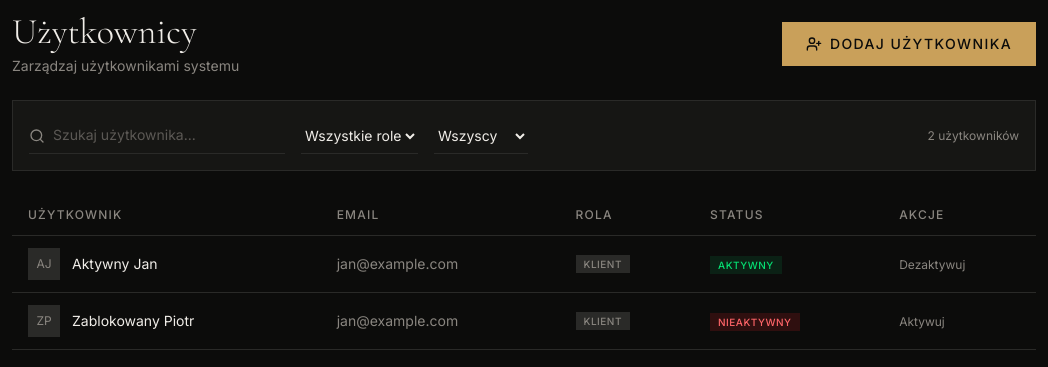
Scenario: AdminUsers › The status filter splits users into active and inactive with nothing left over
expect the text "Aktywny Jan" is shown: met, box [72,254,158,274]
# When / Then
Step 1. Select "Aktywni" in the 2nd dropdown → [481, 136], box [434,118,528,154]
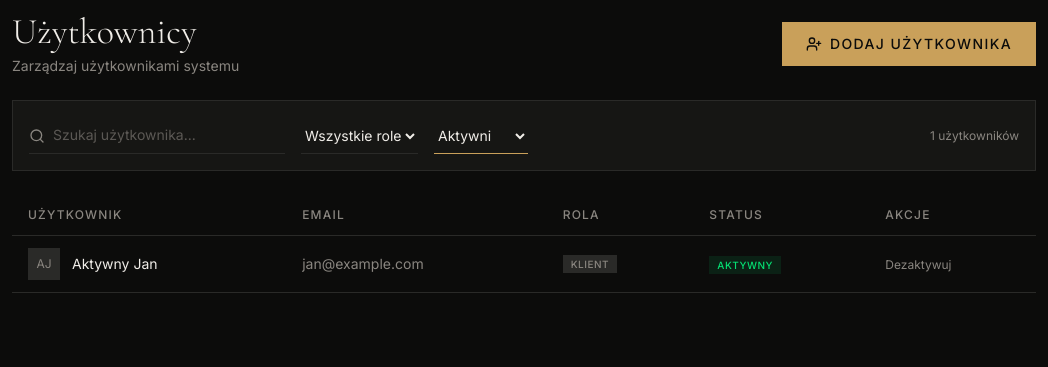
expect the text "Aktywny Jan" is shown: met, box [72,254,158,274]
expect the text "Zablokowany Piotr" is gone: met
Step 2. Select "Nieaktywni" in the 2nd dropdown → [481, 136], box [434,118,528,154]
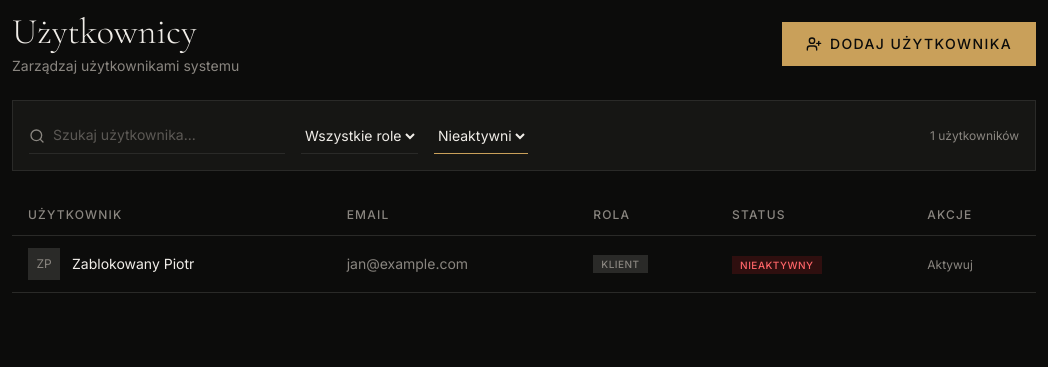
expect the text "Zablokowany Piotr" is shown: met, box [72,254,194,274]
expect the text "Aktywny Jan" is gone: met
